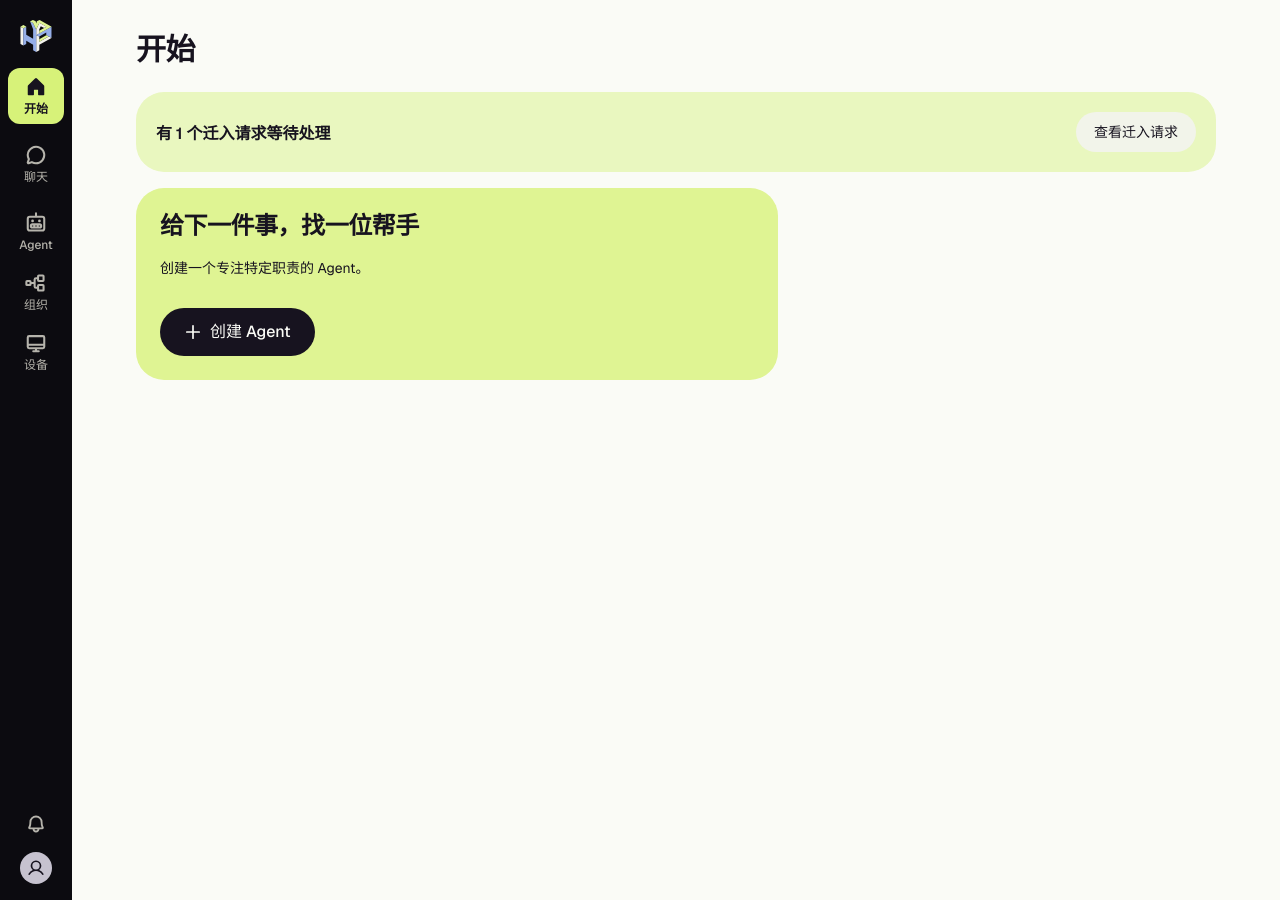
Test: 拓扑：结构视图 › 没有采信的配置时说明去哪里设置
Click the button "组织": [36, 292] box [8,264,64,320]
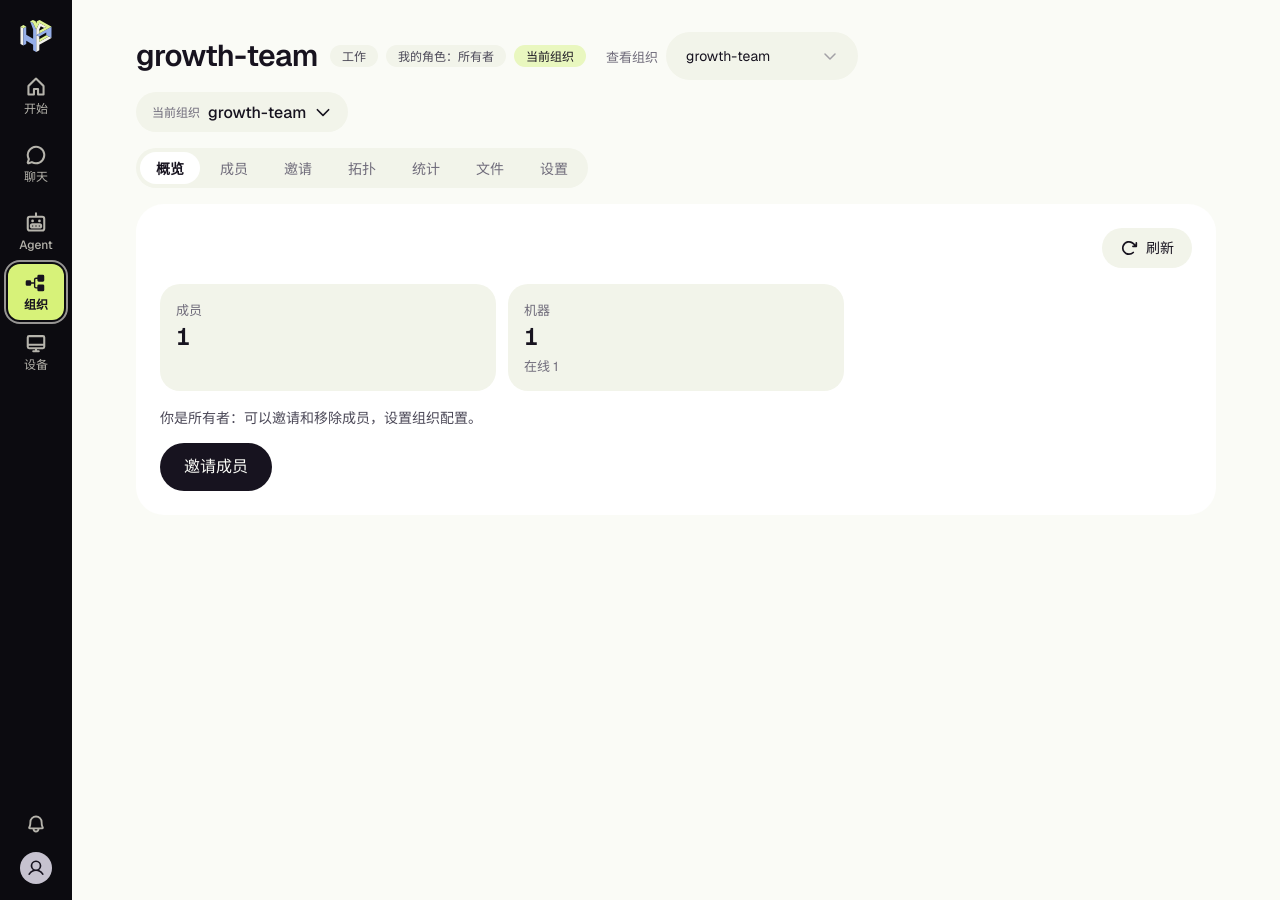
Click the tab "拓扑": [362, 168] box [332,152,392,184]
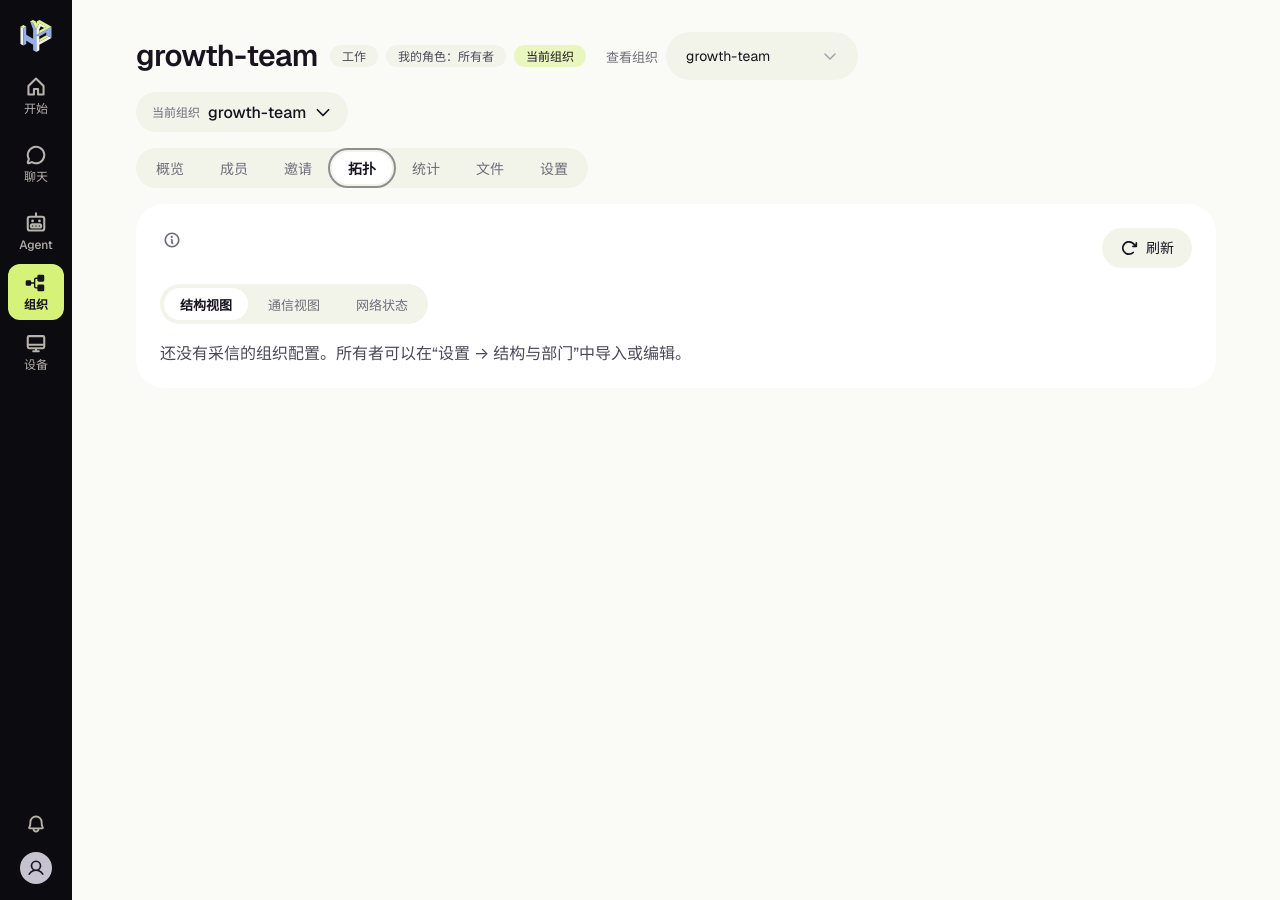
Check: the text "还没有采信的组织配置。所有者可以在“设置 → 结构与部门”中导入或编辑。" is shown, box [160,343,691,364]
